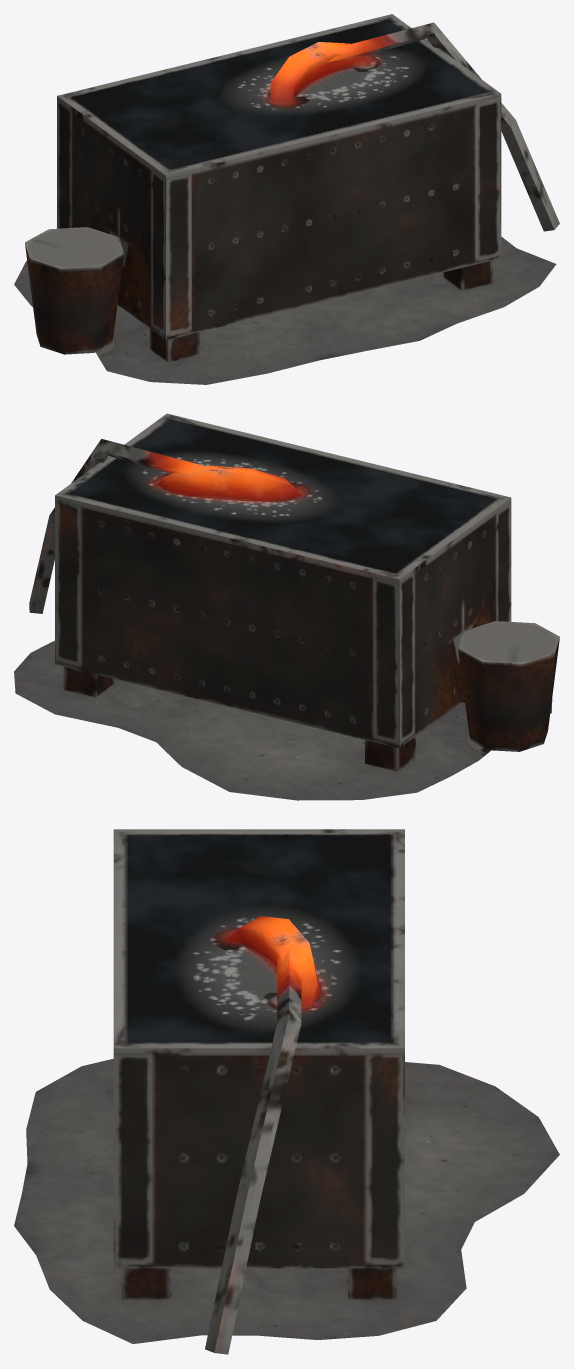
The model's file is foundry_quench.glb.
3 renders of one model, top to bottom at view 1: azimuth 30°, elevation 25°; view 2: azimuth 150°, elevation 25°; view 3: azimuth 270°, elevation 25°, orthographic. The views are drawn at different scales.
Parts seen in each view (by area): view 1: foundry_quench; view 2: foundry_quench; view 3: foundry_quench.
Boxes of the visible parts, <box> form: foundry_quench: <box>14,14,559,384</box>; foundry_quench: <box>14,413,559,800</box>; foundry_quench: <box>14,829,559,1354</box>.
Bounding box in the file's own units: 1.99 × 0.7911 × 1.35.
Materials: 1 (1 with a texture image).
